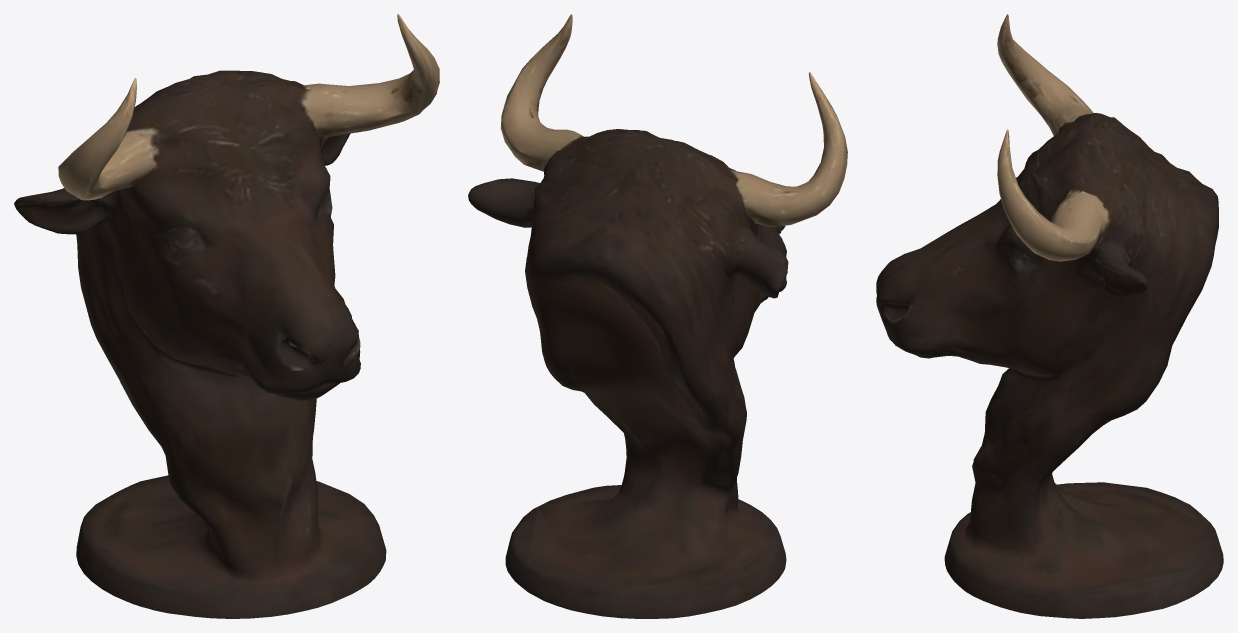
File: bull_head.glb
The picture shows the model from 3 angles, left to right: view 1: azimuth 30°, elevation 25°; view 2: azimuth 150°, elevation 25°; view 3: azimuth 270°, elevation 25°; orthographic projection. The views are drawn at different scales.
Parts seen in each view (by area): view 1: bull_head; view 2: bull_head; view 3: bull_head.
Part boxes in pixels (bbox=[...]): bull_head: bbox=[14, 14, 439, 618]; bull_head: bbox=[468, 14, 847, 618]; bull_head: bbox=[876, 14, 1223, 618].
Bounding box in the file's own units: 0.3063 × 0.433 × 0.2807.
1 material, 1 textured.
